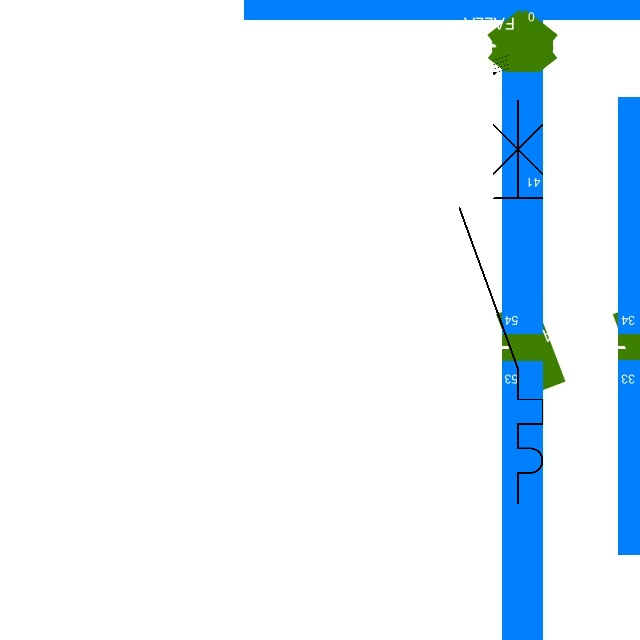interruptor_termomagnetico: (449, 89, 553, 513)
